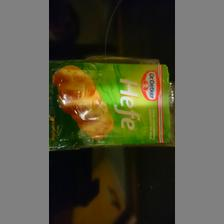Kuchen: (47, 59, 172, 149)
